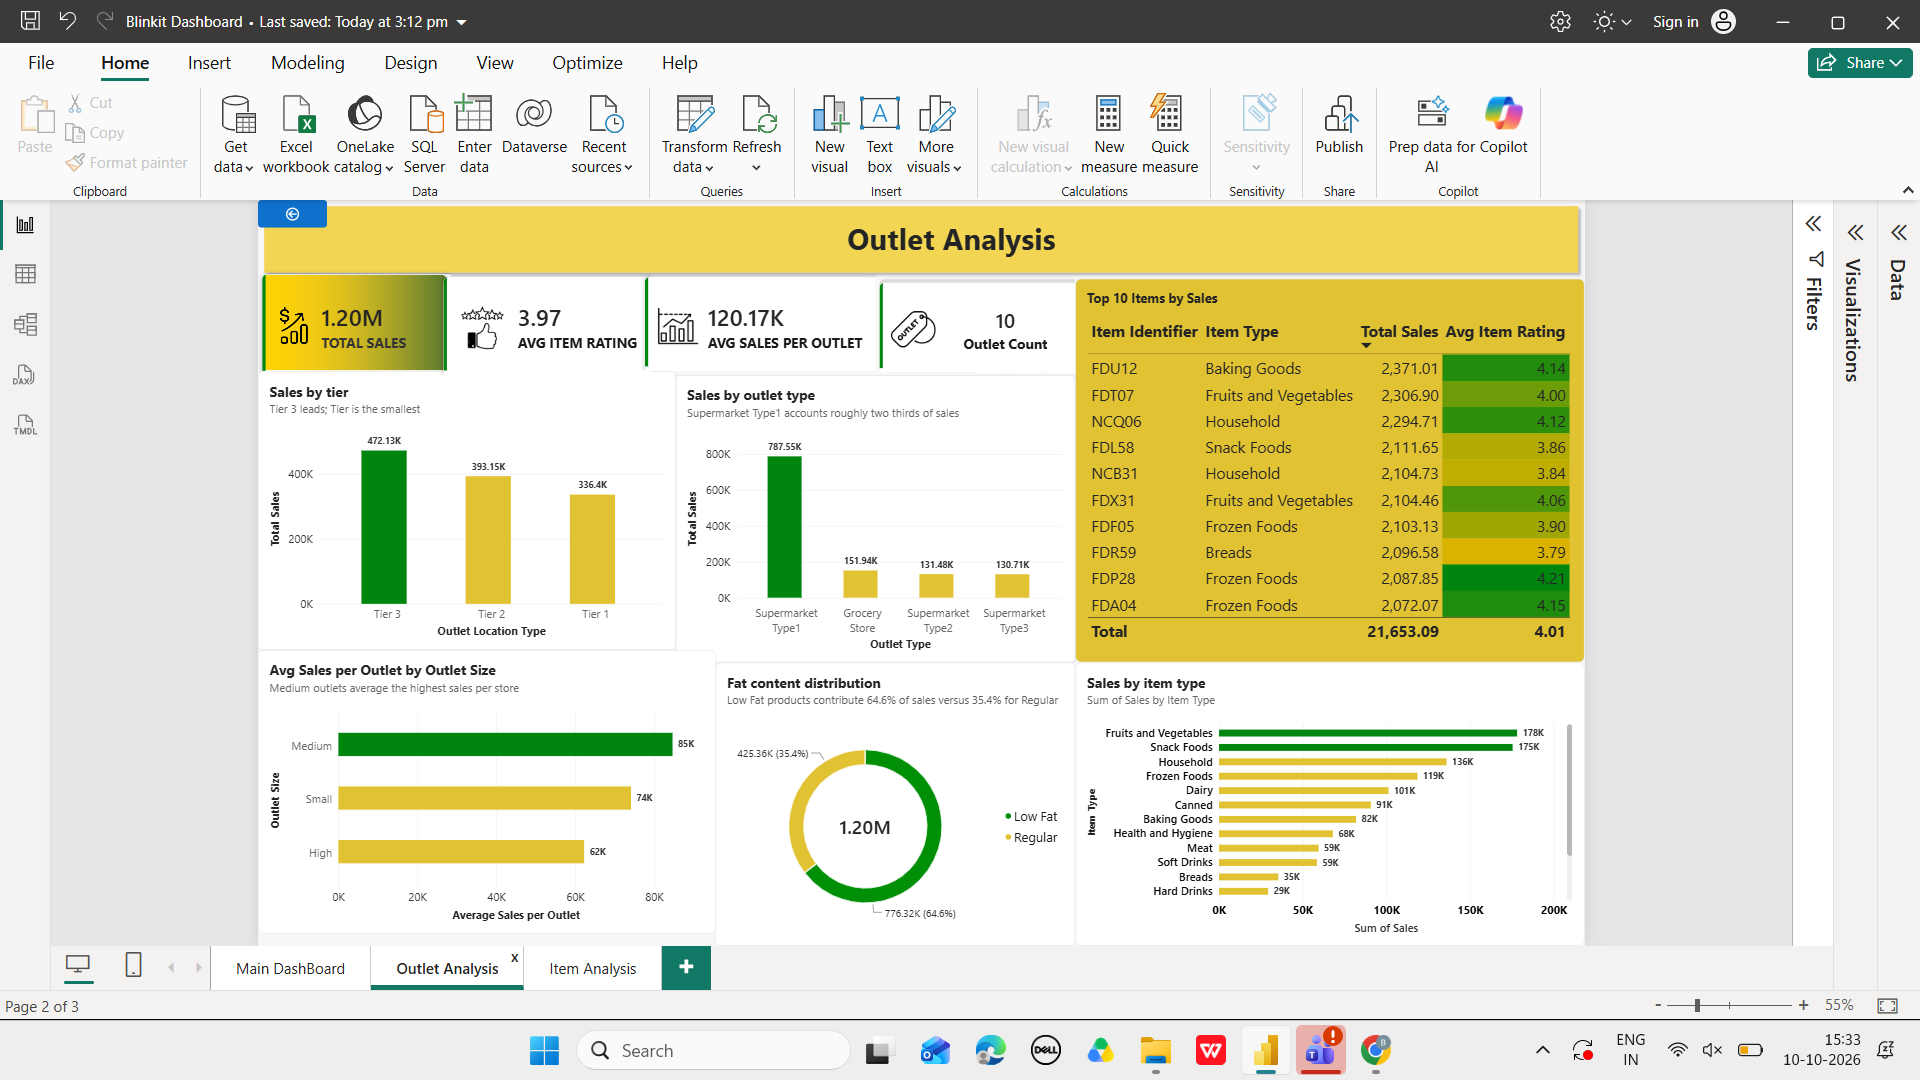

Layout of this report page (visuals, bound fields, positions):
{"tool":"powerbi","page":{"name":"Outlet Analysis","canvas":[1920,1080],"ordinal":1},"visuals":[{"type":"shape","box":[0,0,1920.1,114],"z":0},{"type":"textbox","box":[702.1,25.3,591.8,65.1],"z":1000},{"type":"cardVisual","fields":{"Data":["BlinkIT Grocery Data.Total Sales"]},"box":[0,101.3,280.5,152],"z":2000},{"type":"clusteredColumnChart","title":"Sales by tier","fields":{"Category":["Outlet Location.Outlet Location Type"],"Y":["BlinkIT Grocery Data.Total Sales"]},"box":[0,247.9,604.4,403.6],"z":3000},{"type":"actionButton","box":[0,0,100,40],"z":4000},{"type":"cardVisual","fields":{"Data":["BlinkIT Grocery Data.Average Item Rating"]},"box":[262.4,105,306.7,148.2],"z":5000},{"type":"cardVisual","fields":{"Data":["BlinkIT Grocery Data.Average Sales per Outlet"]},"box":[553.8,105,340.2,142.4],"z":6000},{"type":"clusteredColumnChart","title":"Sales by outlet type","fields":{"Category":["Outlet Info.Outlet Type"],"Y":["Sum(BlinkIT Grocery Data.Sales)"]},"box":[604.4,253.4,579.1,416.2],"z":7000},{"type":"cardVisual","fields":{"Data":["BlinkIT Grocery Data.Outlet Count"]},"box":[894,114,289.5,135.7],"z":8000},{"type":"barChart","title":"Avg Sales per Outlet by Outlet Size","fields":{"Category":["Outlet Info.Outlet Size"],"Y":["BlinkIT Grocery Data.Average Sales per Outlet"]},"box":[0,651.5,662.3,410.8],"z":9000},{"type":"barChart","title":"Sales by item type","fields":{"Category":["Items.Item Type"],"Y":["Sum(BlinkIT Grocery Data.Sales)"]},"box":[1183.5,669.6,736.5,410.8],"z":10000},{"type":"tableEx","title":"Top 10 Items by Sales","fields":{"Values":["BlinkIT Grocery Data.Item Identifier","Items.Item Type","Sum(BlinkIT Grocery Data.Sales)","BlinkIT Grocery Data.Average Item Rating"]},"box":[1183.5,114,736.5,555.6],"z":11000},{"type":"donutChart","title":"Fat content distribution","fields":{"Category":["Items Content.Item Fat Content"],"Y":["BlinkIT Grocery Data.Total Sales"]},"box":[662.3,669.6,521.2,410.8],"z":12000}]}

Visuals, with their boxes on the page's 1920x1080 design canvas (x1, y1, x2, y2). These are canvas units, not pixel positions in the 1920x1080 screenshot, which may show the page scaled, cropped or inside an application window:
shape: (0, 0, 1920, 114)
textbox: (702, 25, 1294, 90)
cardVisual - BlinkIT Grocery Data.Total Sales: (0, 101, 280, 253)
"Sales by tier" clusteredColumnChart: (0, 248, 604, 652)
actionButton: (0, 0, 100, 40)
cardVisual - BlinkIT Grocery Data.Average Item Rating: (262, 105, 569, 253)
cardVisual - BlinkIT Grocery Data.Average Sales per Outlet: (554, 105, 894, 247)
"Sales by outlet type" clusteredColumnChart: (604, 253, 1184, 670)
cardVisual - BlinkIT Grocery Data.Outlet Count: (894, 114, 1184, 250)
"Avg Sales per Outlet by Outlet Size" barChart: (0, 652, 662, 1062)
"Sales by item type" barChart: (1184, 670, 1920, 1080)
"Top 10 Items by Sales" tableEx: (1184, 114, 1920, 670)
"Fat content distribution" donutChart: (662, 670, 1184, 1080)
